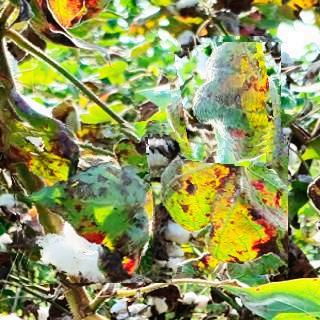blight: (12, 123, 172, 283), (148, 134, 288, 274), (168, 42, 281, 155)
